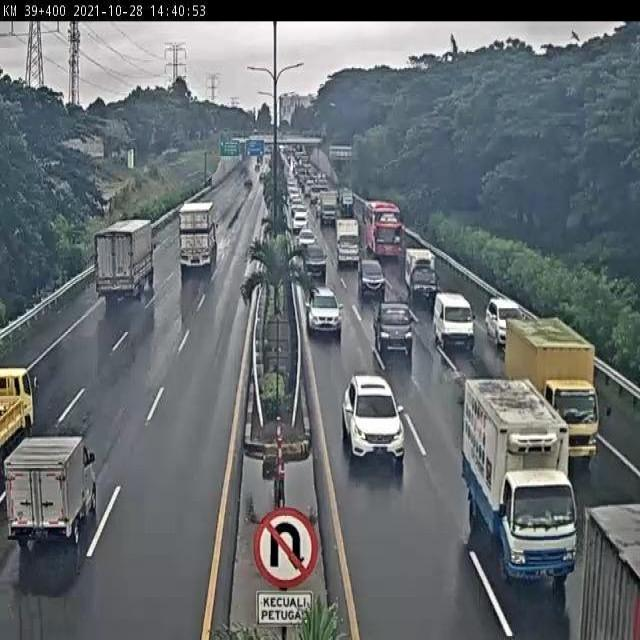big truck: (178, 201, 219, 271)
car: (341, 375, 407, 465), (432, 292, 475, 351), (375, 301, 415, 351), (485, 295, 525, 344), (306, 286, 342, 338), (355, 256, 387, 295)
small truck: (6, 436, 96, 545)
truck-m-: (462, 377, 579, 579), (506, 318, 600, 462), (95, 217, 154, 300)
truck-s-: (405, 244, 440, 300)
